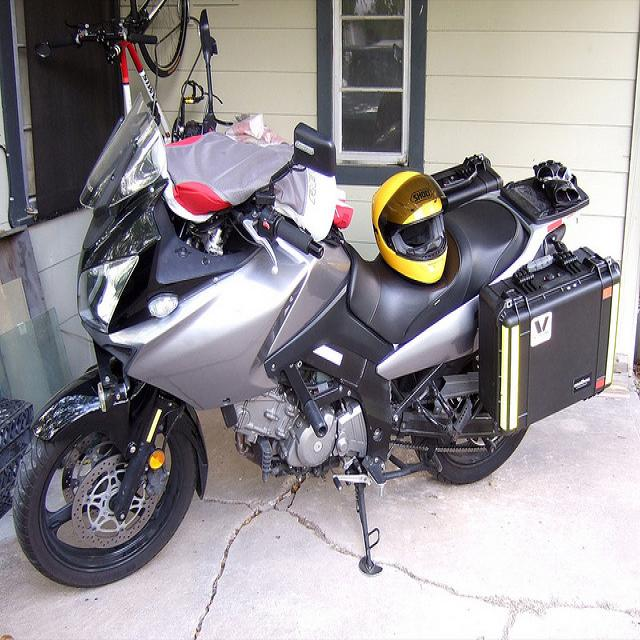motor: (13, 7, 586, 590)
